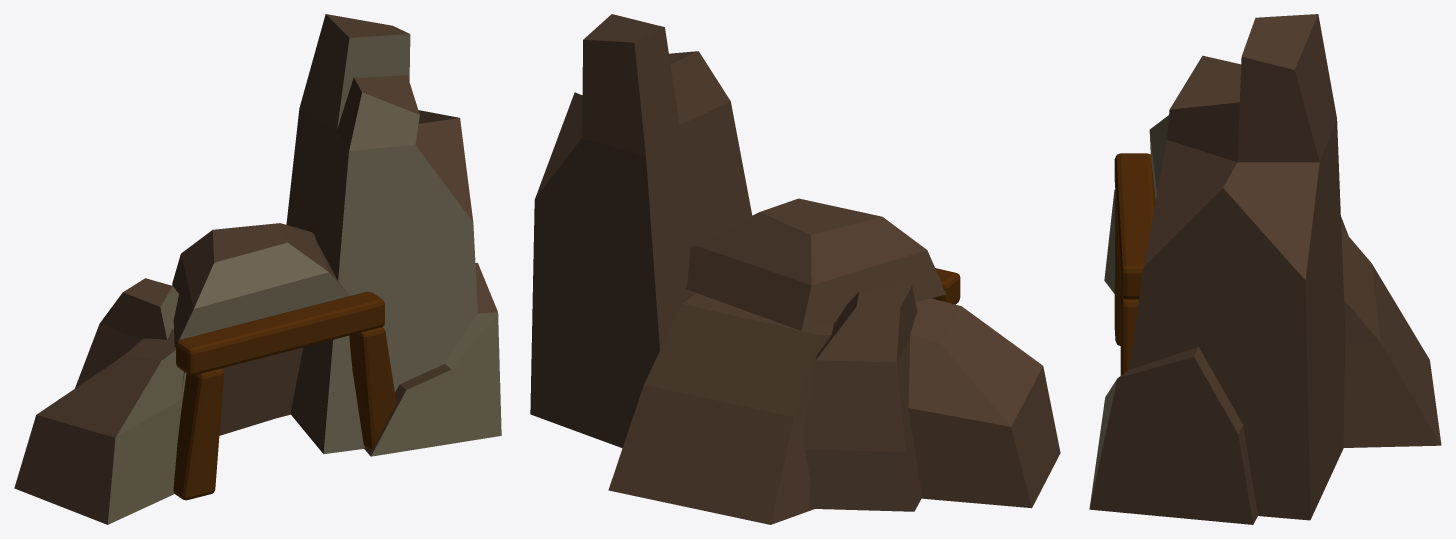
The model's file is rocks_entrance.fbx.
The picture shows the model from 3 angles, left to right: view 1: azimuth 30°, elevation 25°; view 2: azimuth 150°, elevation 25°; view 3: azimuth 270°, elevation 25°; orthographic projection. The views are drawn at different scales.
Parts seen in each view (by area): view 1: rocks; view 2: rocks; view 3: rocks.
Boxes of the visible parts, x1,y1,x2,y2 form: rocks: [14, 14, 501, 524]; rocks: [530, 14, 1060, 524]; rocks: [1089, 14, 1441, 524].
Bounding box in the file's own units: 212 × 168 × 119.
